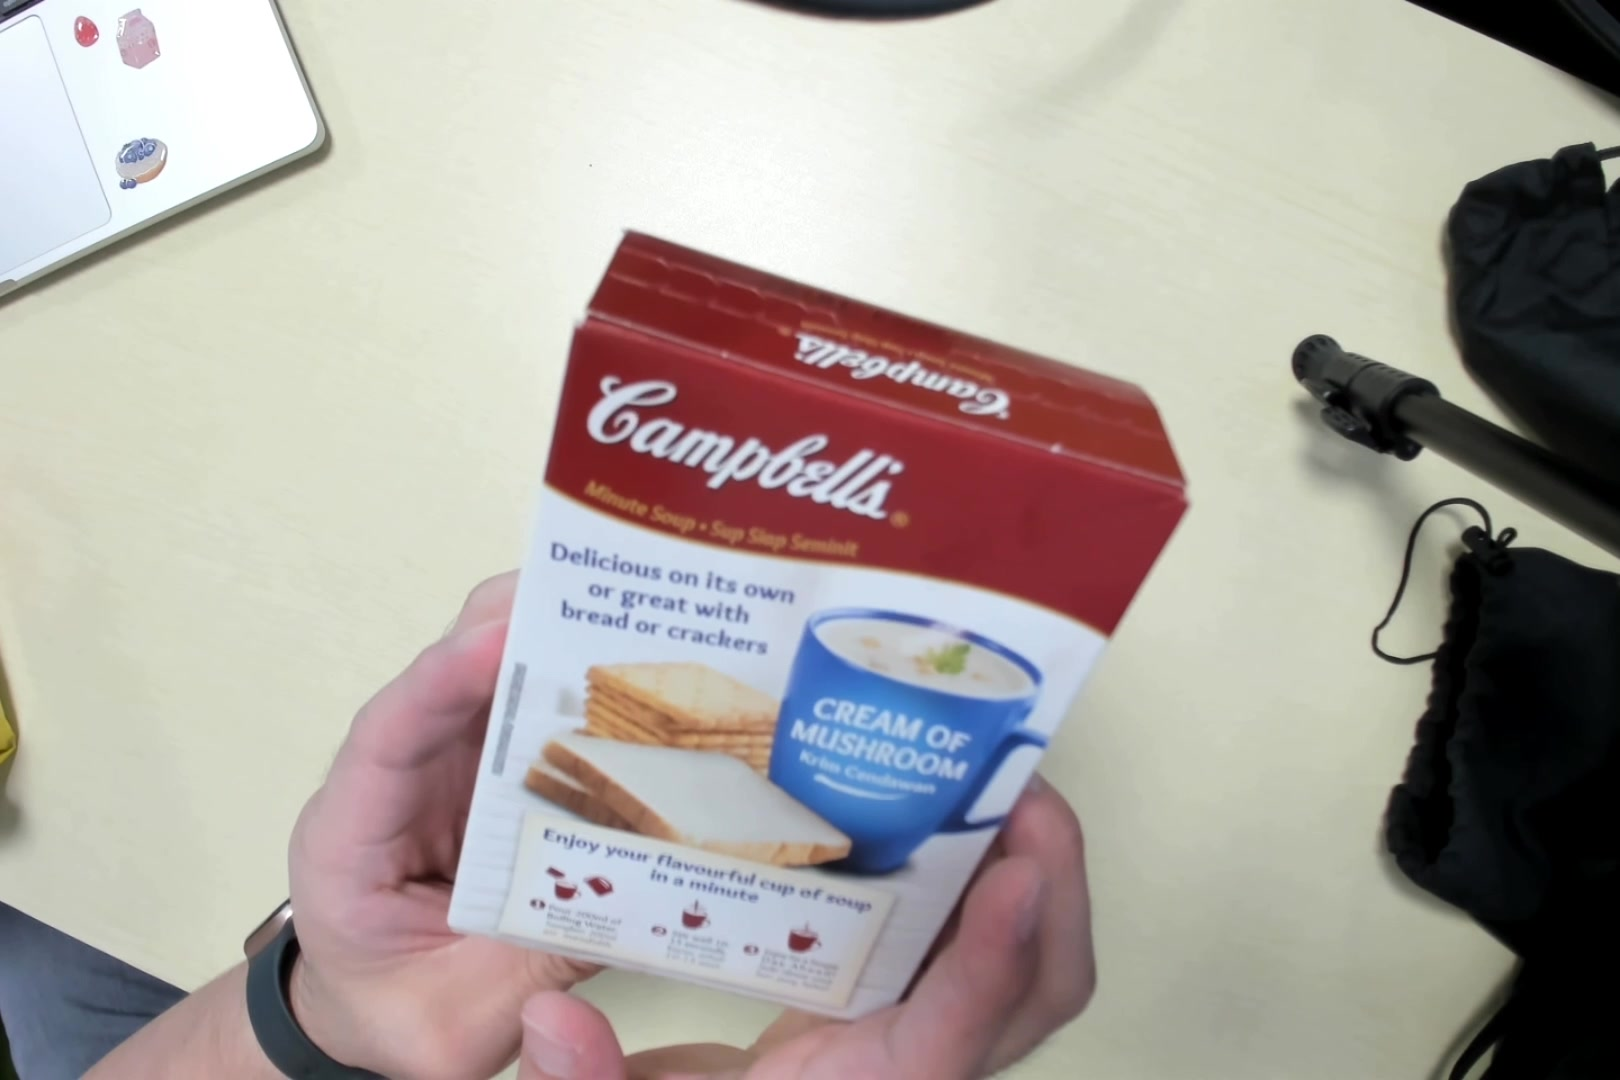InstantMeals_0-99g_Halal_NonHealthy: (451, 231, 1188, 1010)
